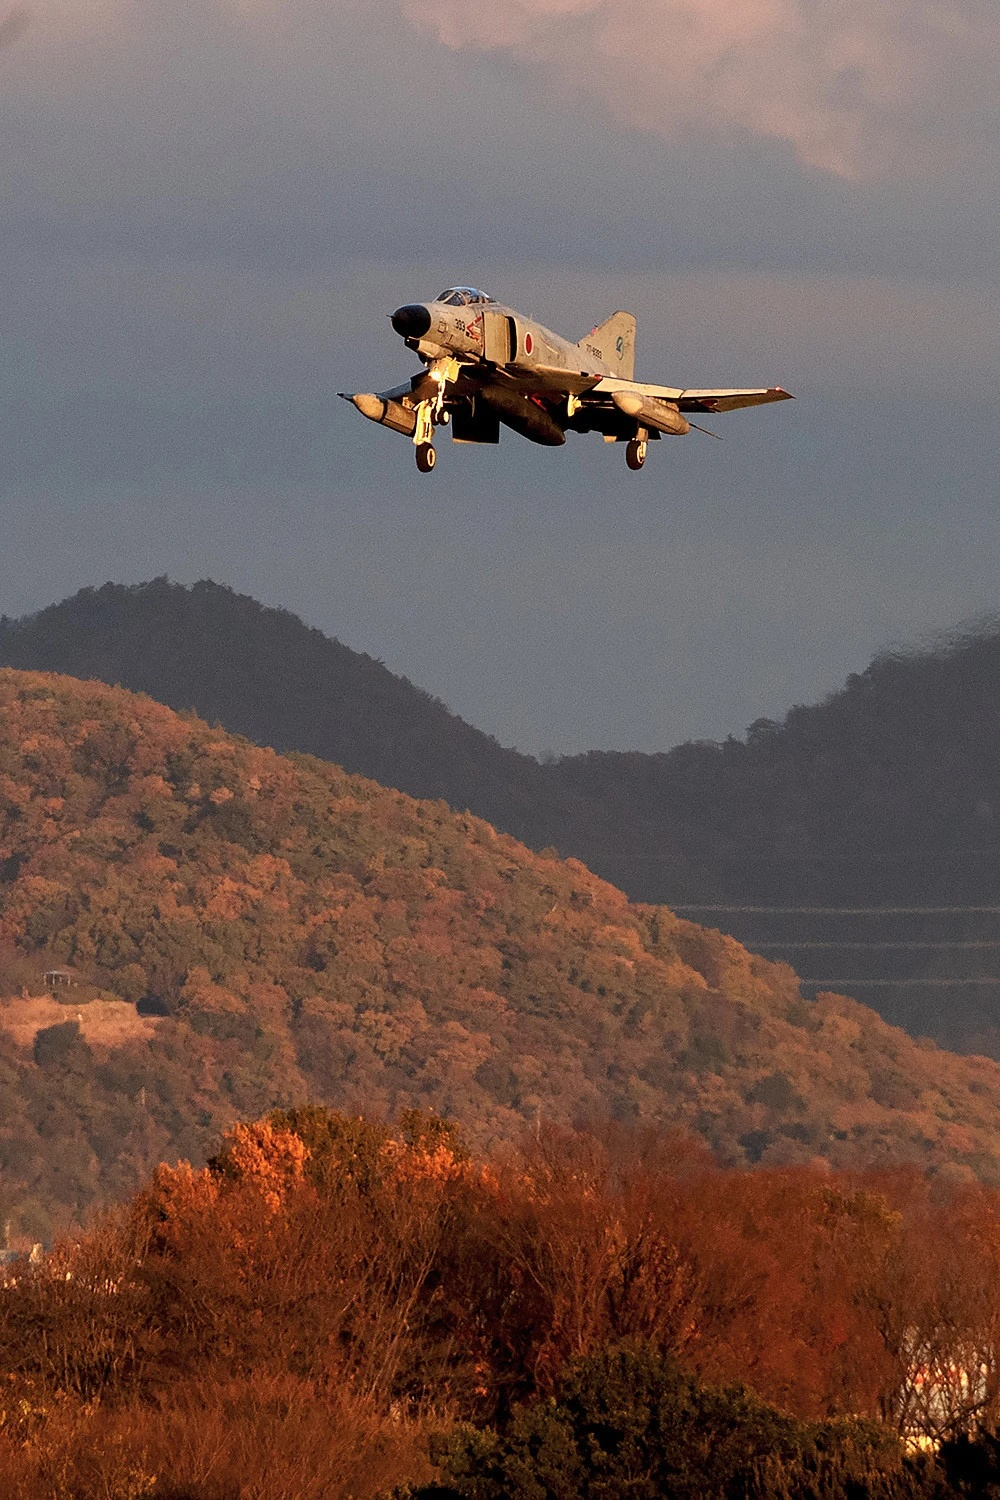F4: (335, 286, 798, 474)
